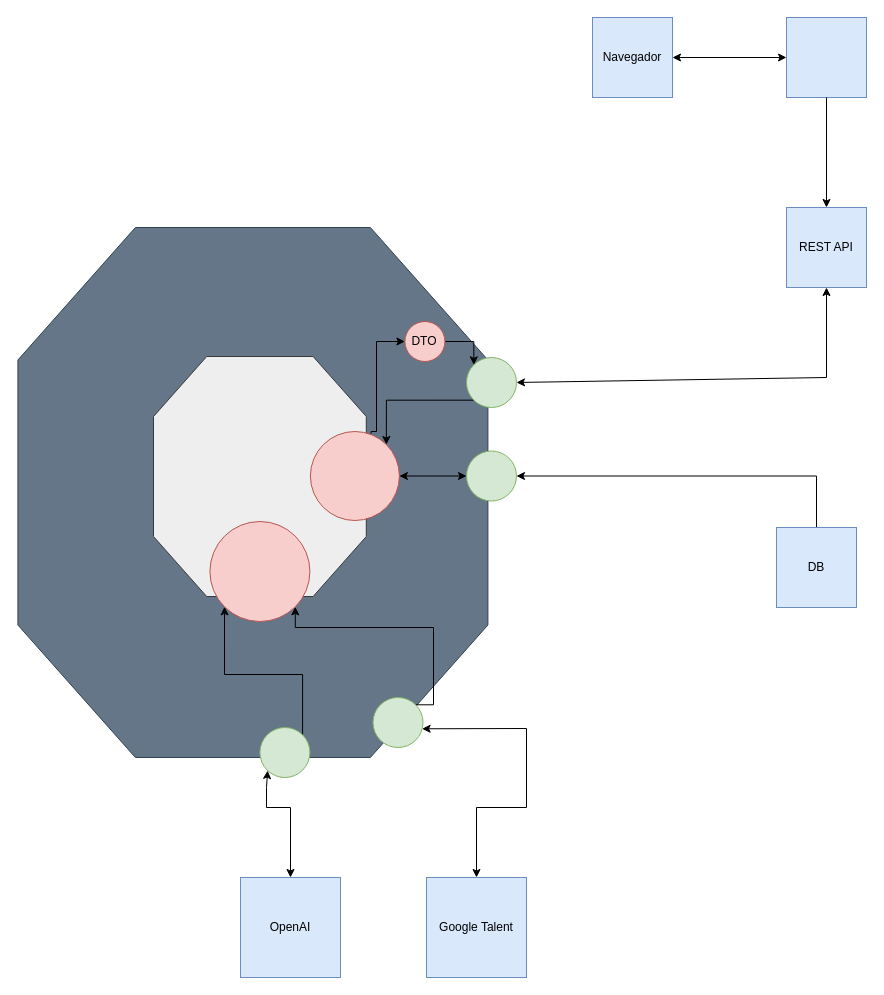
This 884x995 diagram has some shape labels left out. Here are the shapes that lost their labels. From the top down, the box of each, then its label:
(786, 16, 866, 98): Route 53
(309, 430, 399, 520): Controladores
(209, 520, 310, 622): Comunicacion APIs
